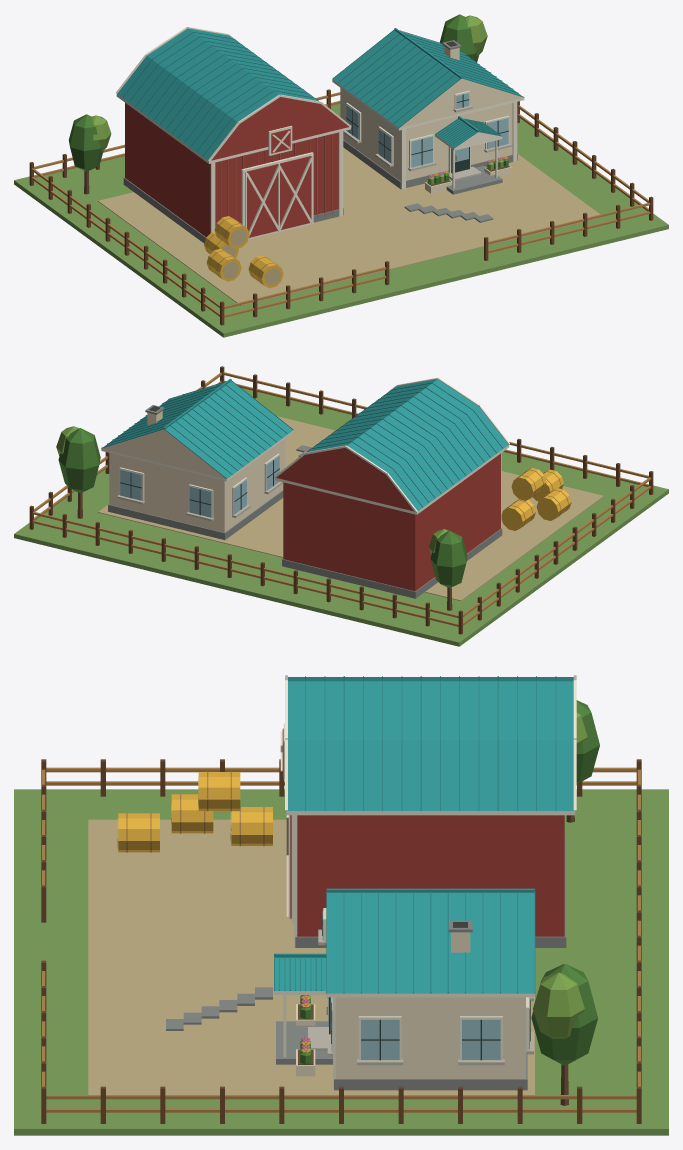
File: 10_Farmstead.obj
The picture shows the model from 3 angles, top to bottom: view 1: azimuth 30°, elevation 25°; view 2: azimuth 150°, elevation 25°; view 3: azimuth 270°, elevation 25°; orthographic projection. The views are drawn at different scales.
Visible parts, largest first — view 1: 10_Farmstead; view 2: 10_Farmstead; view 3: 10_Farmstead.
Boxes of the visible parts, x1,y1,x2,y2 form: 10_Farmstead: (14,14,668,337); 10_Farmstead: (14,366,668,646); 10_Farmstead: (14,675,668,1135).
Size of the model in its own units: 27 by 8.35 by 22.
1 material, 1 textured.
